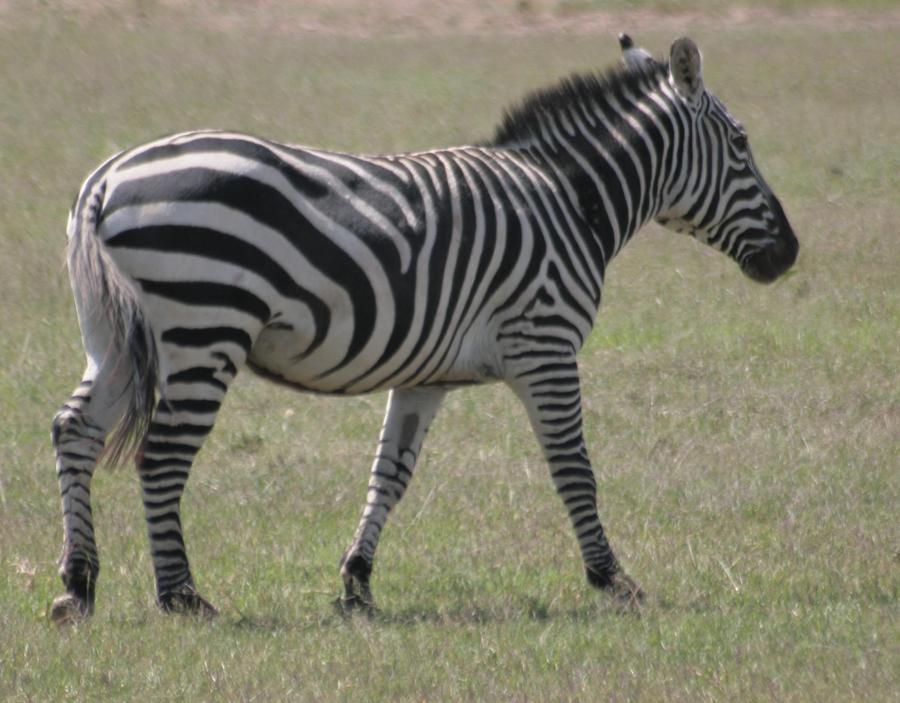zebra_plains: (122, 115, 595, 416)
